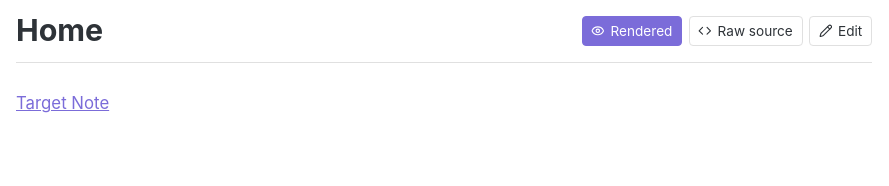
Test: NoteViewer › shows a notice when the link target path is unknown
Click the link "Target Note" at (63, 103), box [16,93,109,113]
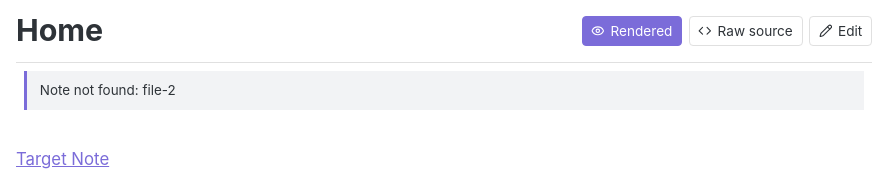
Expected: the message reads "Note not found: file-2", [24,71,864,110]
